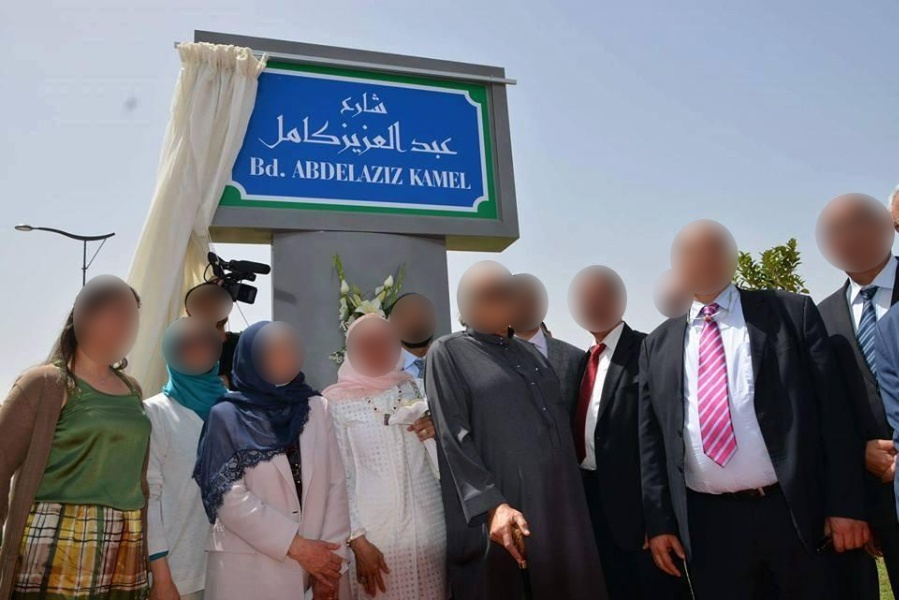text: (273, 112, 288, 163), (289, 112, 304, 163), (305, 112, 320, 163), (321, 112, 336, 163), (337, 112, 352, 163), (353, 112, 368, 163), (369, 112, 384, 163), (385, 112, 400, 163), (401, 112, 416, 163), (417, 112, 432, 163), (433, 112, 448, 163), (449, 112, 460, 163), (353, 89, 368, 125), (369, 89, 384, 125), (262, 112, 272, 163), (339, 89, 352, 125), (305, 159, 320, 187), (321, 159, 336, 187), (337, 159, 352, 187), (353, 159, 368, 187), (369, 159, 384, 187), (385, 159, 400, 187), (417, 165, 432, 193), (433, 165, 448, 193), (449, 165, 464, 193), (257, 156, 272, 178), (273, 156, 286, 178), (294, 159, 304, 187), (401, 159, 409, 187), (408, 165, 416, 193), (465, 165, 473, 193), (249, 156, 256, 178), (385, 89, 389, 125)
